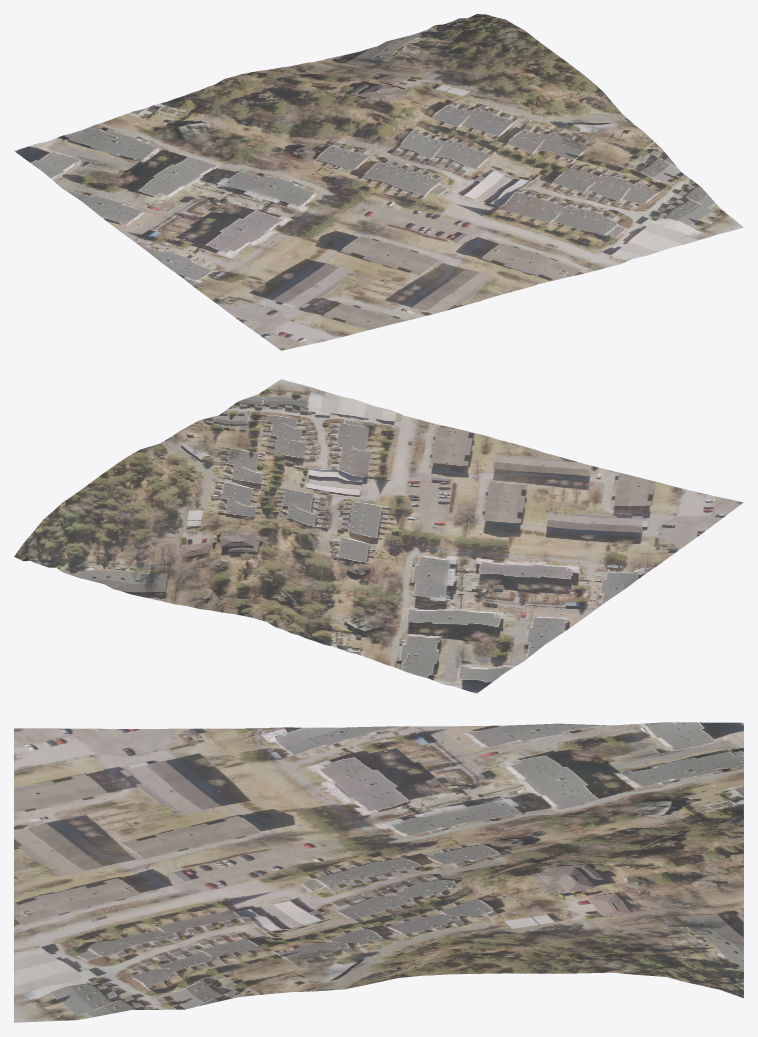
Rendered from CM_Terrain_24492302_6817336.fbx.
3 renders of one model, top to bottom at view 1: azimuth 30°, elevation 25°; view 2: azimuth 150°, elevation 25°; view 3: azimuth 270°, elevation 25°, orthographic. The views are drawn at different scales.
Parts seen in each view (by area): view 1: CM_Terrain_24492302_6817336_LOD0; view 2: CM_Terrain_24492302_6817336_LOD0; view 3: CM_Terrain_24492302_6817336_LOD0.
Boxes of the visible parts, x1=… form: CM_Terrain_24492302_6817336_LOD0: x1=14, y1=14, x2=743, y2=350; CM_Terrain_24492302_6817336_LOD0: x1=14, y1=379, x2=743, y2=693; CM_Terrain_24492302_6817336_LOD0: x1=14, y1=722, x2=743, y2=1022.
Size of what is drawn, in the model's own units: 205 by 21.53 by 205.
